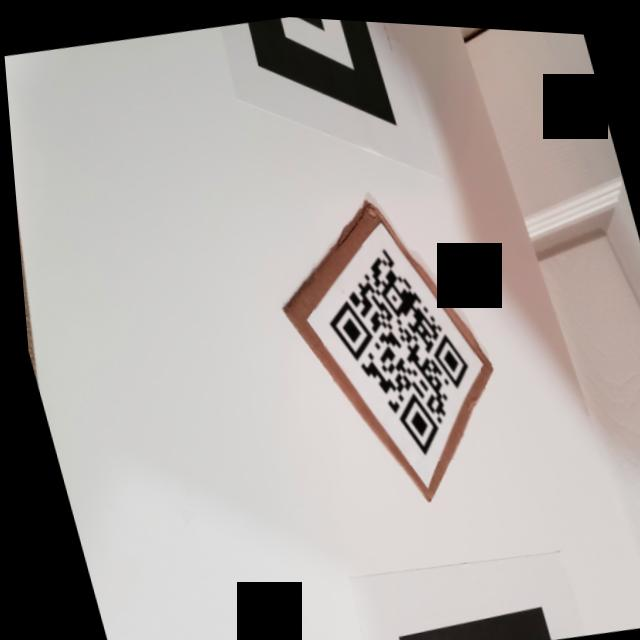QR_CODE: (292, 221, 497, 475)
